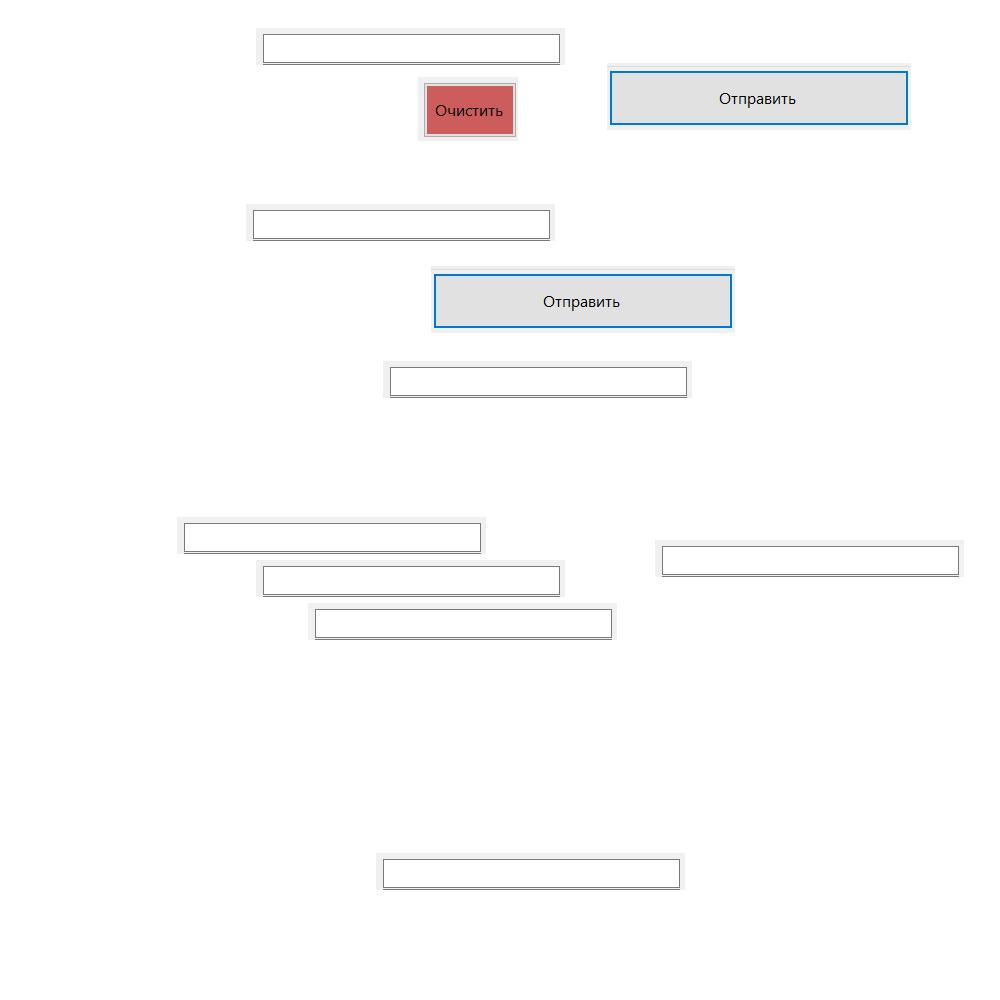Button: (607, 63, 911, 130), (431, 266, 735, 333), (418, 77, 518, 141)
EditText-: (655, 540, 964, 577), (376, 853, 685, 890), (246, 204, 555, 241), (256, 560, 565, 597), (383, 361, 692, 398), (308, 603, 617, 640), (177, 517, 486, 554), (256, 28, 565, 65)
